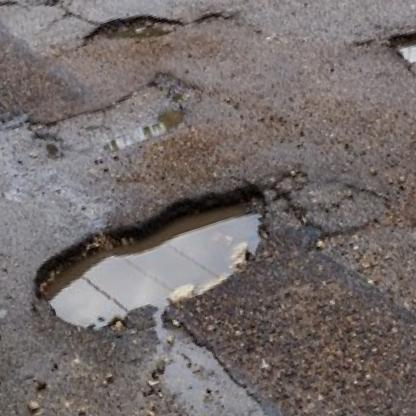pothole: (21, 173, 288, 345), (46, 58, 218, 172), (86, 1, 181, 57), (386, 11, 416, 72), (198, 9, 226, 26)
